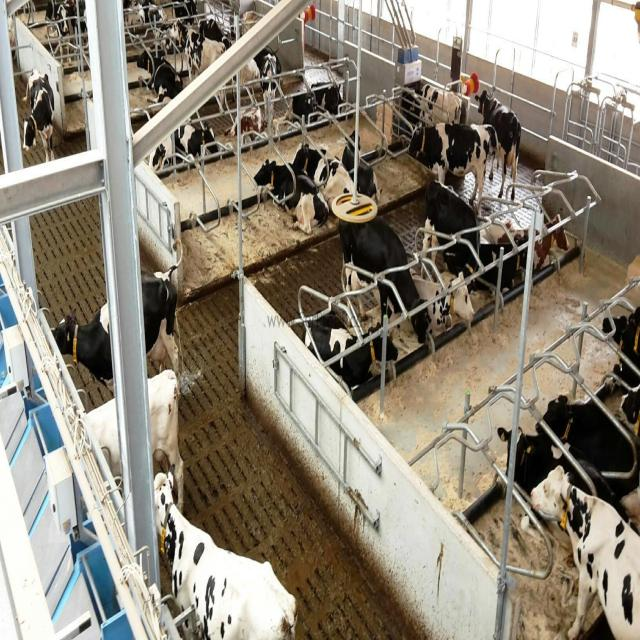cow: (152, 464, 298, 638), (497, 392, 639, 540), (50, 238, 183, 386), (529, 464, 639, 638), (81, 367, 184, 515), (338, 213, 430, 342), (297, 284, 398, 399), (406, 120, 498, 211), (253, 158, 329, 235), (474, 88, 521, 201), (291, 141, 356, 207), (392, 81, 467, 138), (284, 64, 342, 128), (21, 67, 55, 162), (341, 128, 382, 204)
